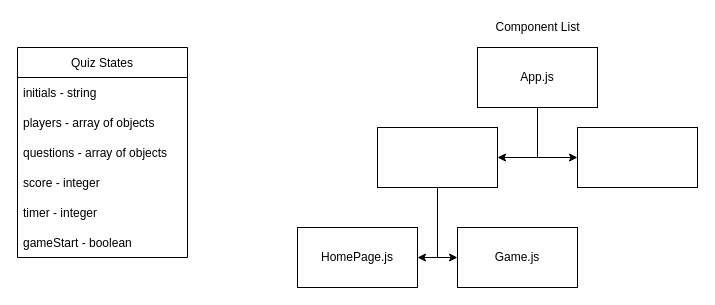
Image size: 715x305. Some labels were removed from this diagram. Here are the shapes that lost their labels. From the top down, the centre of each, then its label:
At (437,157): "MainView.js".
At (637,157): "HighScoreView.js".
